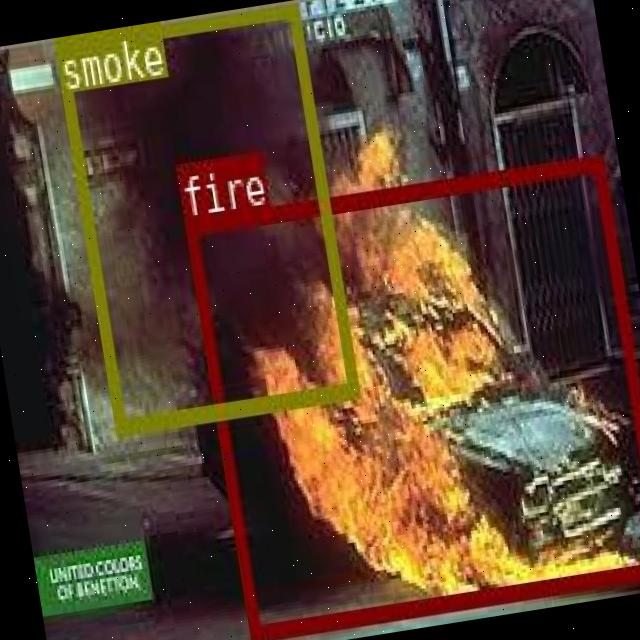fire: (184, 152, 640, 640)
smoke: (51, 0, 356, 431)
